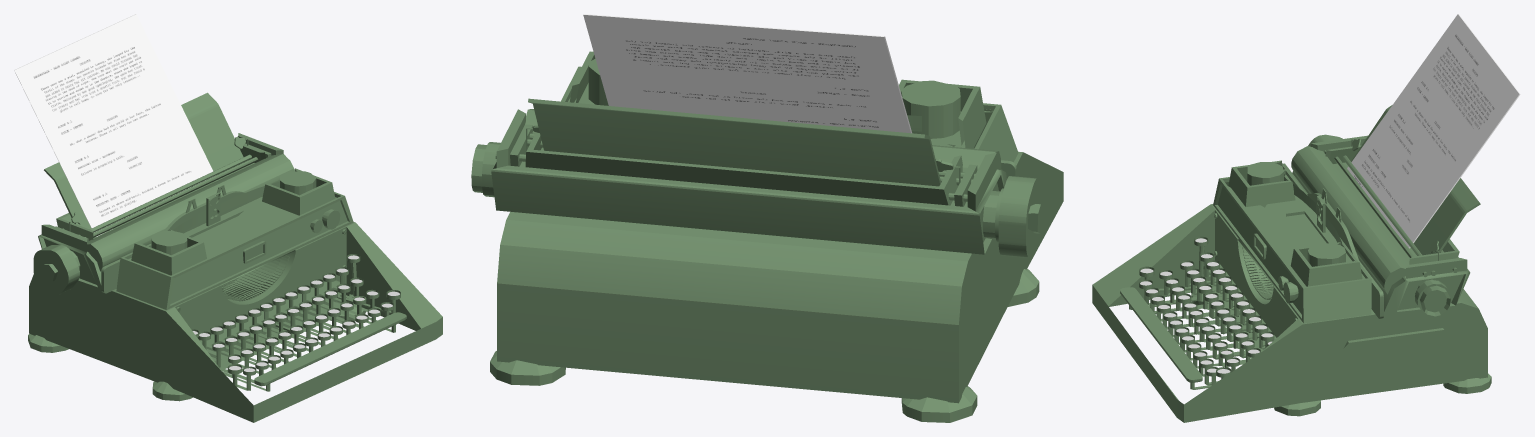
Rendered from typewriter.glb.
The picture shows the model from 3 angles, left to right: view 1: azimuth 30°, elevation 25°; view 2: azimuth 150°, elevation 25°; view 3: azimuth 270°, elevation 25°; orthographic projection. The views are drawn at different scales.
Visible parts, largest first — view 1: office_actual_size_3:office_actual_size_2:Type_Writer:T_e803, paper; view 2: office_actual_size_3:office_actual_size_2:Type_Writer:T_e803, paper; view 3: office_actual_size_3:office_actual_size_2:Type_Writer:T_e803, paper.
Boxes of the visible parts, left/top/right/bottom form: office_actual_size_3:office_actual_size_2:Type_Writer:T_e803: left=28, top=92, right=442, bottom=422; paper: left=14, top=14, right=213, bottom=236; office_actual_size_3:office_actual_size_2:Type_Writer:T_e803: left=471, top=51, right=1063, bottom=422; paper: left=583, top=14, right=911, bottom=133; office_actual_size_3:office_actual_size_2:Type_Writer:T_e803: left=1092, top=105, right=1491, bottom=422; paper: left=1347, top=14, right=1520, bottom=248.
Size of the model in its own units: 0.5299 by 0.3791 by 0.5618.
Materials: 3 (1 with a texture image).
